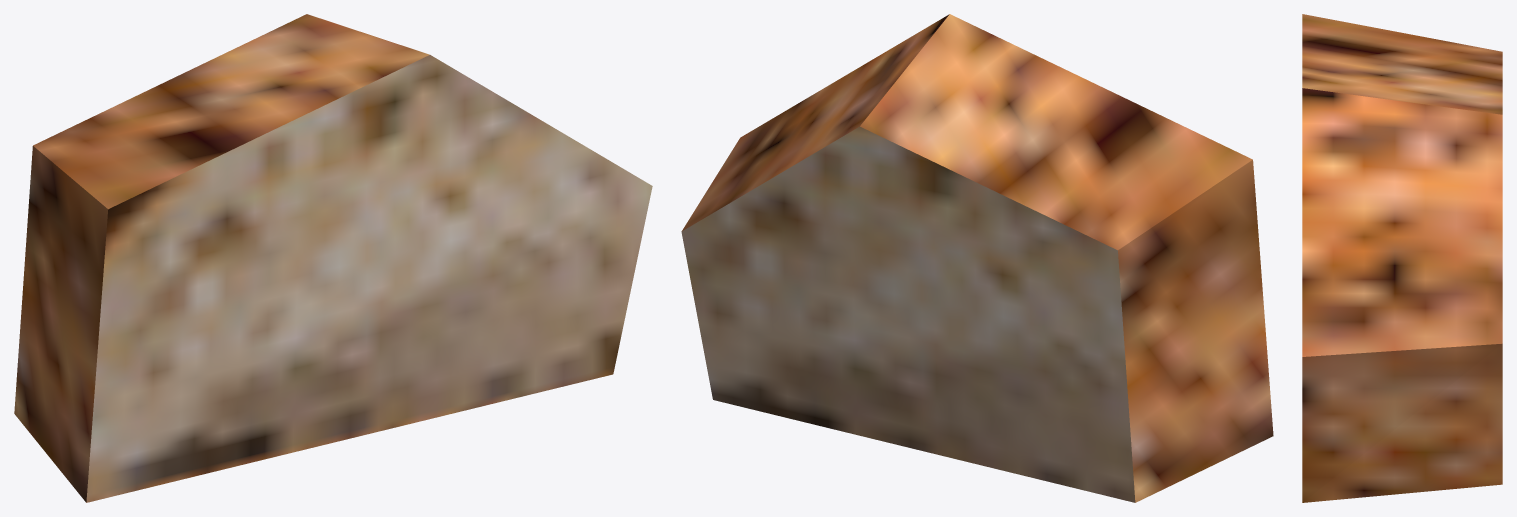
The model's file is Bread01e.obj.
The picture shows the model from 3 angles, left to right: view 1: azimuth 30°, elevation 25°; view 2: azimuth 150°, elevation 25°; view 3: azimuth 270°, elevation 25°; orthographic projection. The views are drawn at different scales.
Visible parts, largest first — view 1: Bread01e; view 2: Bread01e; view 3: Bread01e.
Part boxes in pixels (bbox=[...]): Bread01e: bbox=[14, 14, 652, 502]; Bread01e: bbox=[681, 14, 1273, 502]; Bread01e: bbox=[1302, 14, 1502, 502].
Bounding box in the file's own units: 0.1156 × 0.0711 × 0.0387.
